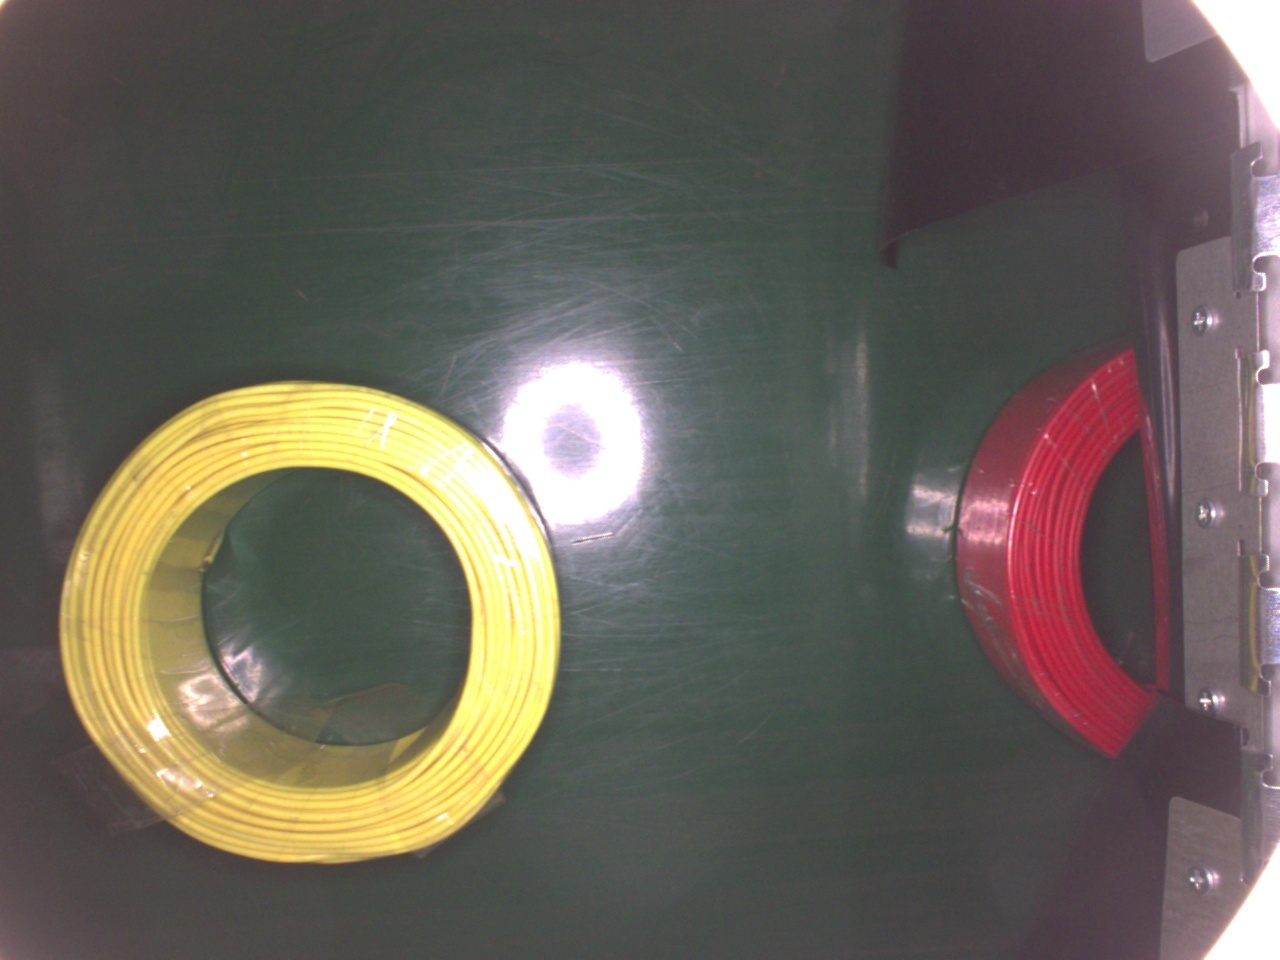red: (955, 345, 1176, 761)
yellow: (55, 381, 563, 869)
